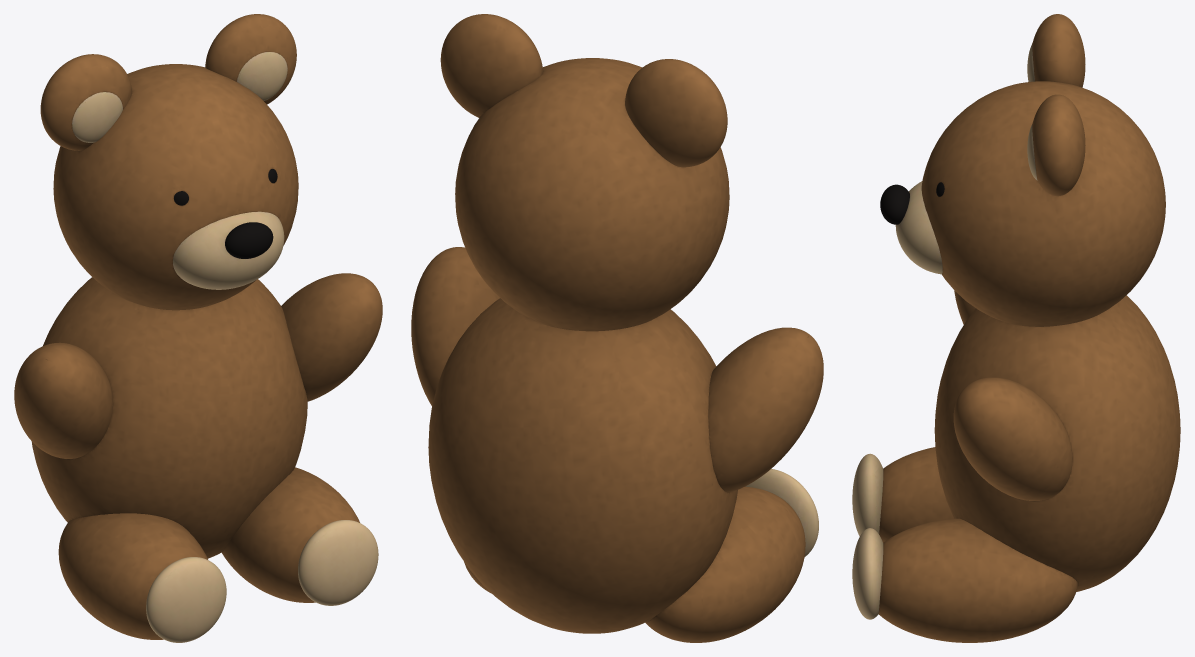
The model's file is brown.glb.
3 views of the same model, side by side, from view 1: azimuth 30°, elevation 25°; view 2: azimuth 150°, elevation 25°; view 3: azimuth 270°, elevation 25° (orthographic). The views are drawn at different scales.
Visible parts, largest first — view 1: fur_primary, fur_pad, eye_black; view 2: fur_primary, fur_pad; view 3: fur_primary, fur_pad, eye_black.
Part boxes in pixels (x1=…): fur_primary: x1=14, y1=14, x2=382, y2=639; fur_pad: x1=72, y1=52, x2=378, y2=642; eye_black: x1=174, y1=169, x2=277, y2=258; fur_primary: x1=411, y1=14, x2=823, y2=642; fur_pad: x1=745, y1=469, x2=818, y2=557; fur_primary: x1=878, y1=14, x2=1180, y2=642; fur_pad: x1=852, y1=44, x2=1037, y2=619; eye_black: x1=880, y1=182, x2=944, y2=224.
Size of the model in its own units: 0.2789 by 0.4073 by 0.224.
3 materials, 2 textured.
